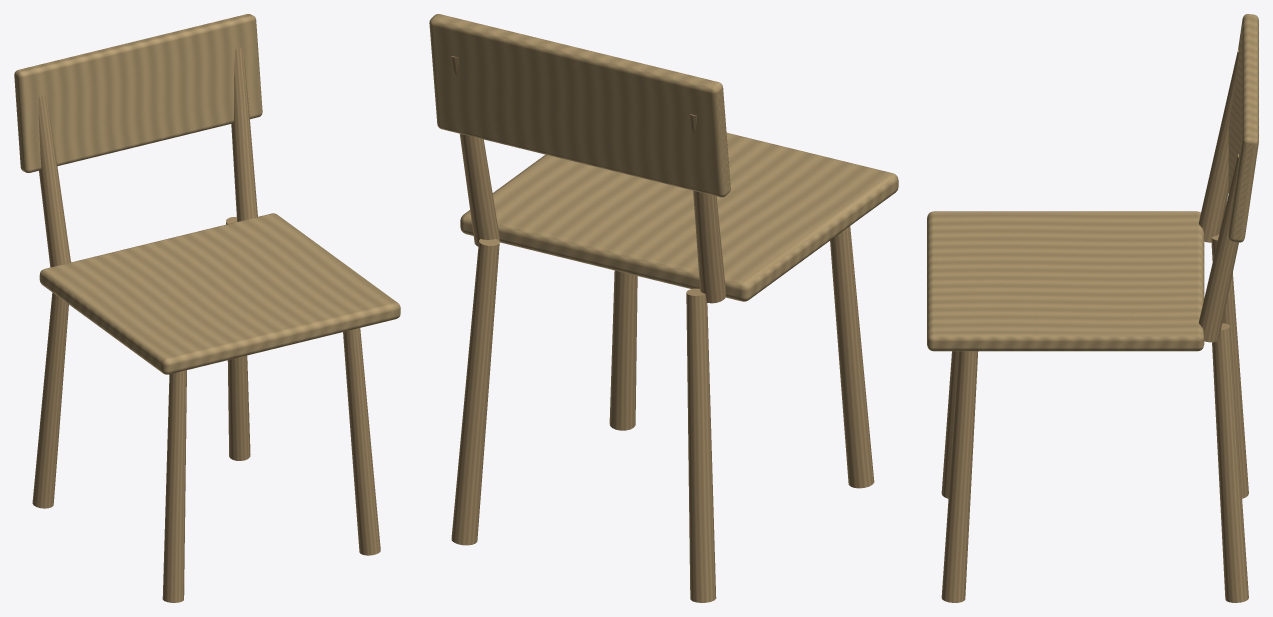
File: lisabo-chair.glb
3 renders of one model, left to right at view 1: azimuth 30°, elevation 25°; view 2: azimuth 150°, elevation 25°; view 3: azimuth 270°, elevation 25°, orthographic. The views are drawn at different scales.
Parts seen in each view (by area): view 1: LISABO Dining chair; view 2: LISABO Dining chair; view 3: LISABO Dining chair.
Boxes of the visible parts, x1,y1,x2,y2 form: LISABO Dining chair: [14, 14, 400, 602]; LISABO Dining chair: [429, 14, 898, 602]; LISABO Dining chair: [927, 14, 1258, 602].
Bounding box in the file's own units: 0.46 × 0.8 × 0.51.
2 materials, 2 textured.
